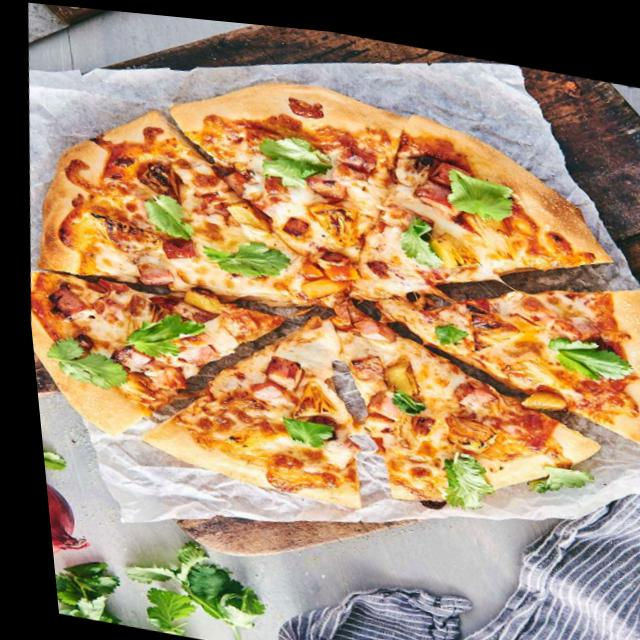pizza: (2, 32, 640, 554)
